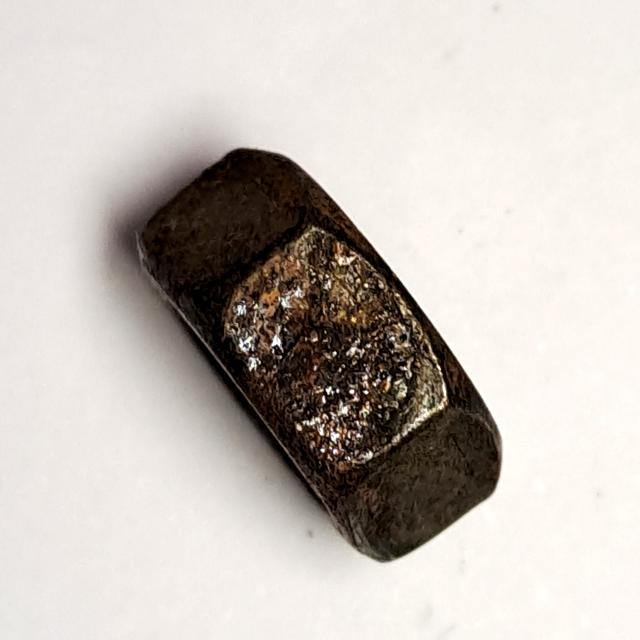Side_Rust: (122, 137, 524, 580)
